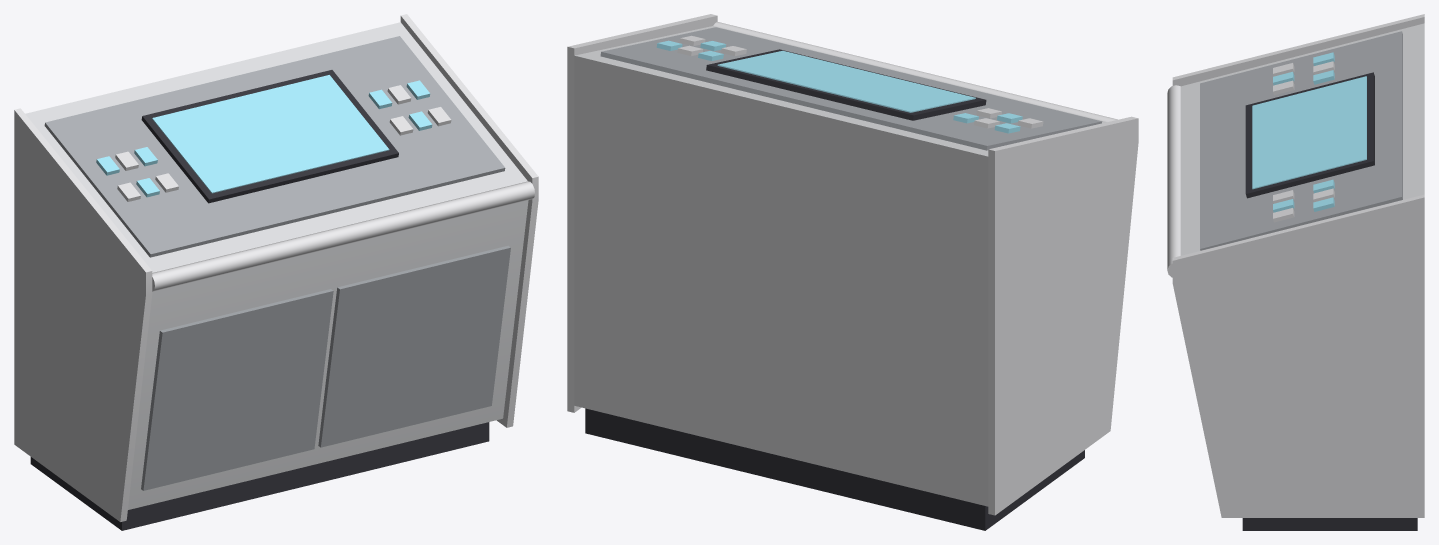
Rendered from Ship_Console.fbx.
The picture shows the model from 3 angles, left to right: view 1: azimuth 30°, elevation 25°; view 2: azimuth 150°, elevation 25°; view 3: azimuth 270°, elevation 25°; orthographic projection. The views are drawn at different scales.
Visible parts, largest first — view 1: Ship_Console; view 2: Ship_Console; view 3: Ship_Console.
Part boxes in pixels (x1,y1,x2,y2): Ship_Console: [14, 14, 538, 530]; Ship_Console: [567, 14, 1138, 530]; Ship_Console: [1167, 14, 1424, 530].
Bounding box in the file's own units: 1.24 × 1.07 × 0.735.
